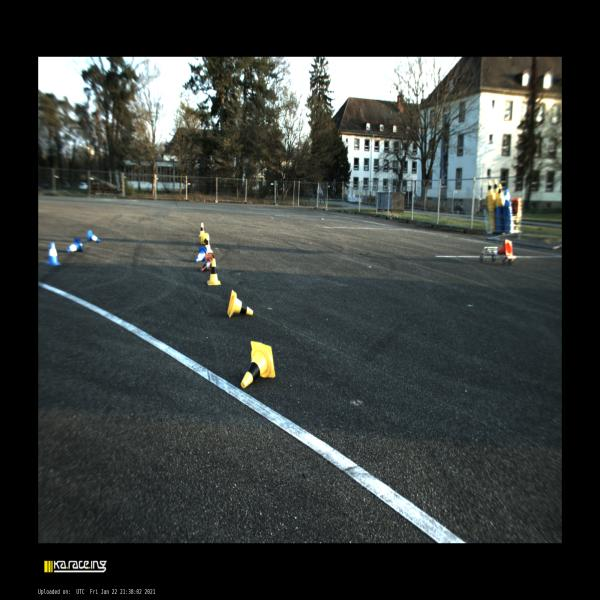blue_cone: (44, 242, 61, 266), (66, 237, 83, 252), (87, 230, 101, 243), (195, 247, 205, 262)
orange_cone: (200, 254, 214, 272)
yellow_cone: (242, 341, 276, 388), (227, 290, 253, 318), (207, 258, 221, 285), (206, 235, 214, 253), (200, 232, 208, 244), (199, 222, 205, 236)
